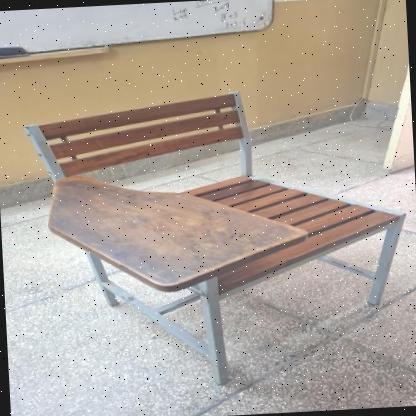chair: (17, 78, 416, 397)
